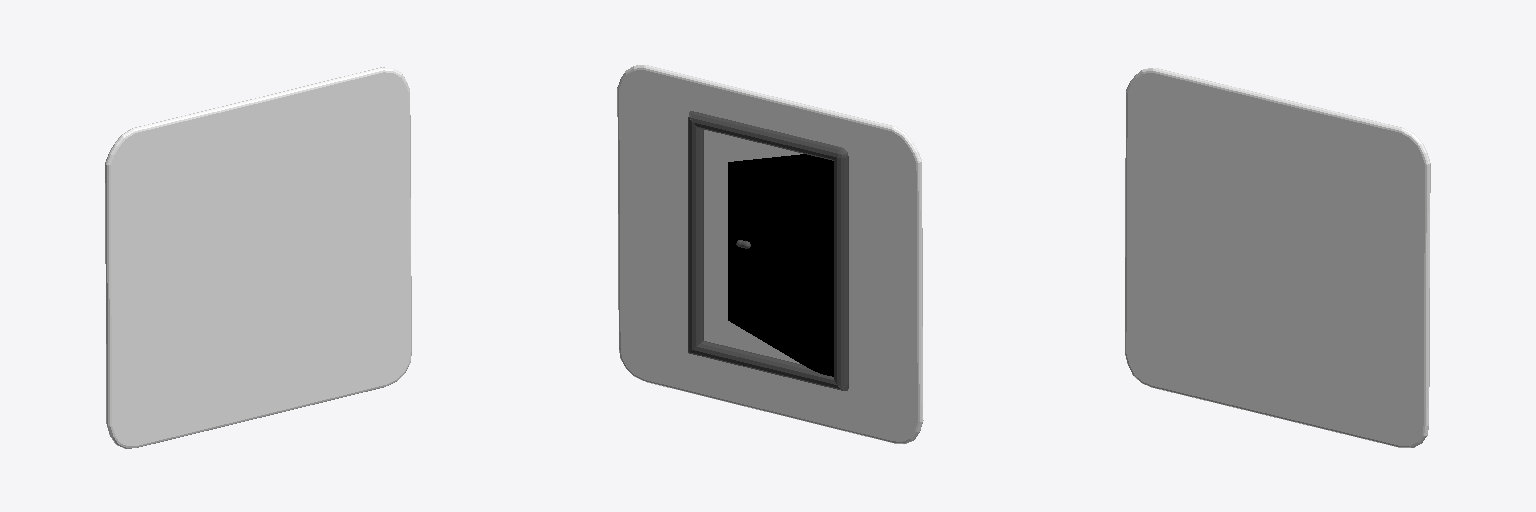
Rendered from dc8ac323-d226-4e65-bc32-c371abab99e7.obj.
The picture shows the model from 3 angles: view 1: azimuth 30°, elevation 25°; view 2: azimuth 150°, elevation 25°; view 3: azimuth 330°, elevation 25°; orthographic projection.
Parts seen in each view (by area): view 1: p.0469; view 2: p.0469, p.0475, s.0482; view 3: p.0469.
Boxes of the visible parts, box(x1,y1,x2,y2) form: p.0469: box(105, 67, 411, 448); p.0469: box(617, 65, 923, 443); p.0475: box(728, 154, 833, 376); s.0482: box(688, 111, 848, 390); p.0469: box(1125, 68, 1430, 447).
Size of the model in its own units: 0.6134 by 0.6144 by 0.0374.